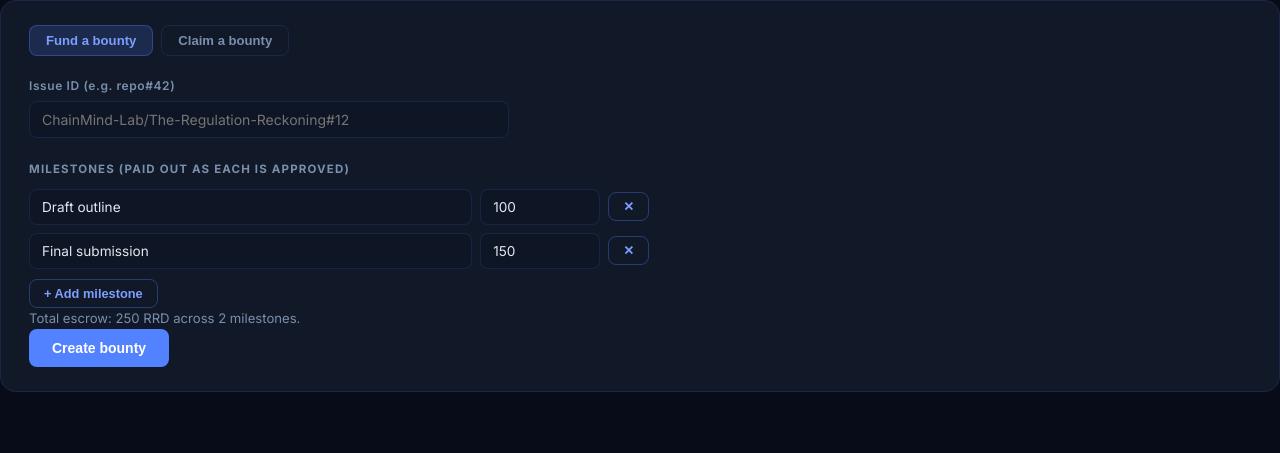
Scenario: BountyForm › lets a funder add a milestone
Step 1. Click the button with test id "add-milestone" → (93, 293), box left=29, top=279, right=158, bottom=308
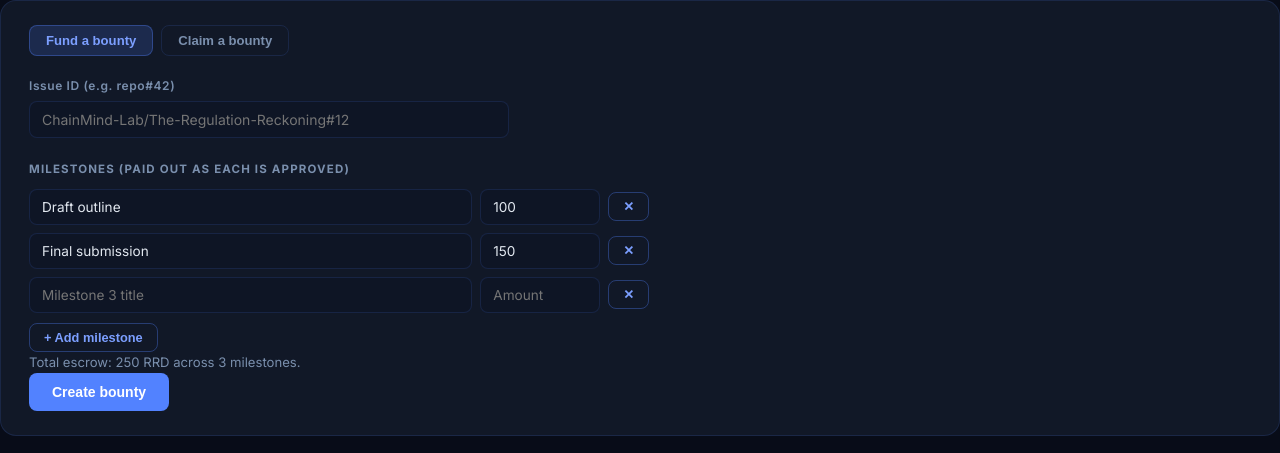
Now the field with test id "milestone-title-2" is shown, box left=29, top=277, right=472, bottom=313
